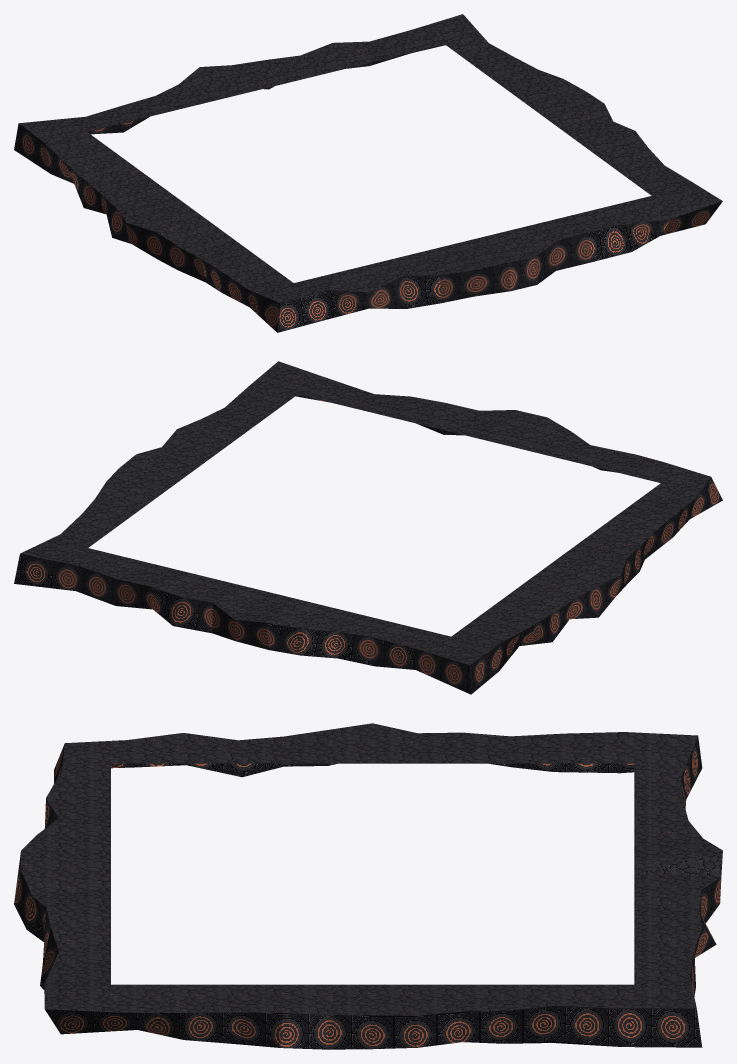
The model's file is entorno.glb.
The picture shows the model from 3 angles, top to bottom: view 1: azimuth 30°, elevation 25°; view 2: azimuth 150°, elevation 25°; view 3: azimuth 270°, elevation 25°; orthographic projection. The views are drawn at different scales.
Parts seen in each view (by area): view 1: vulcao_entorno; view 2: vulcao_entorno; view 3: vulcao_entorno.
Part boxes in pixels (x1,y1,x2,y2): vulcao_entorno: (14,14,722,332); vulcao_entorno: (14,361,722,694); vulcao_entorno: (14,723,722,1049).
Bounding box in the file's own units: 16.31 × 1.06 × 16.52.
Materials: 2 (2 with a texture image).
